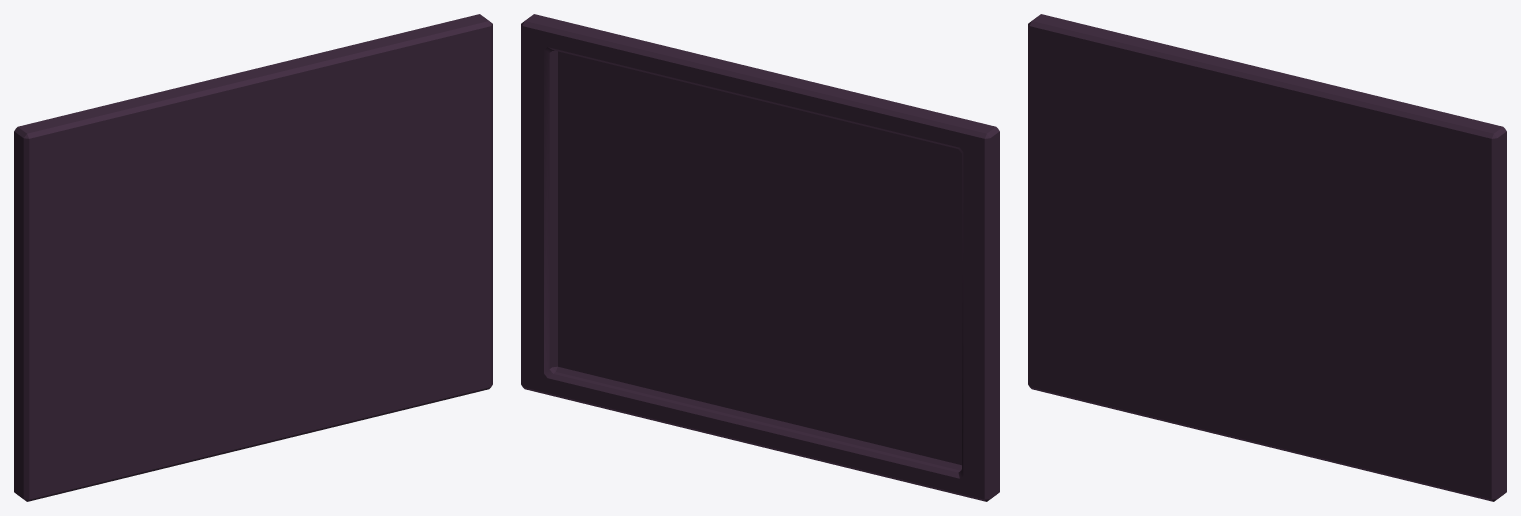
File: PictureFrame_B02.fbx
The picture shows the model from 3 angles, left to right: view 1: azimuth 30°, elevation 25°; view 2: azimuth 150°, elevation 25°; view 3: azimuth 330°, elevation 25°; orthographic projection.
Parts seen in each view (by area): view 1: Picture Frame 002; view 2: Picture Frame 002; view 3: Picture Frame 002.
Boxes of the visible parts, box(x1,y1,x2,y2) form: Picture Frame 002: box(14, 14, 492, 501); Picture Frame 002: box(521, 14, 999, 501); Picture Frame 002: box(1028, 14, 1506, 501).
Bounding box in the file's own units: 122 × 91.7 × 6.11.
